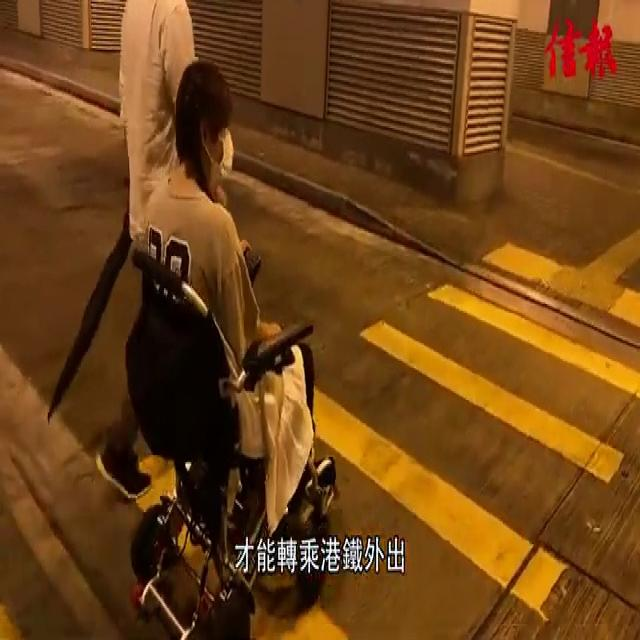wheelchairs: (121, 229, 339, 640)
